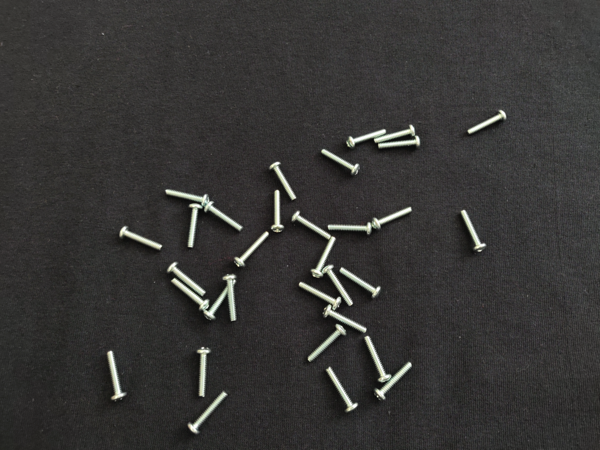longscrew: (185, 391, 232, 436), (323, 366, 361, 414), (373, 360, 415, 401), (305, 324, 348, 364), (166, 260, 209, 298), (298, 279, 345, 313), (201, 279, 237, 323), (322, 263, 356, 309), (338, 265, 384, 299), (233, 230, 272, 270), (169, 276, 212, 312), (363, 334, 393, 385), (320, 146, 366, 179), (321, 305, 370, 335), (117, 224, 167, 253), (104, 350, 130, 405), (203, 201, 247, 233), (459, 208, 489, 254), (268, 160, 300, 202), (290, 211, 333, 241), (466, 109, 507, 139), (310, 236, 338, 279), (371, 204, 415, 231), (221, 273, 242, 324), (194, 345, 212, 403), (373, 123, 418, 145), (163, 186, 211, 206), (346, 128, 389, 150), (184, 202, 203, 251), (376, 134, 424, 150), (270, 189, 286, 234), (327, 221, 376, 235)
